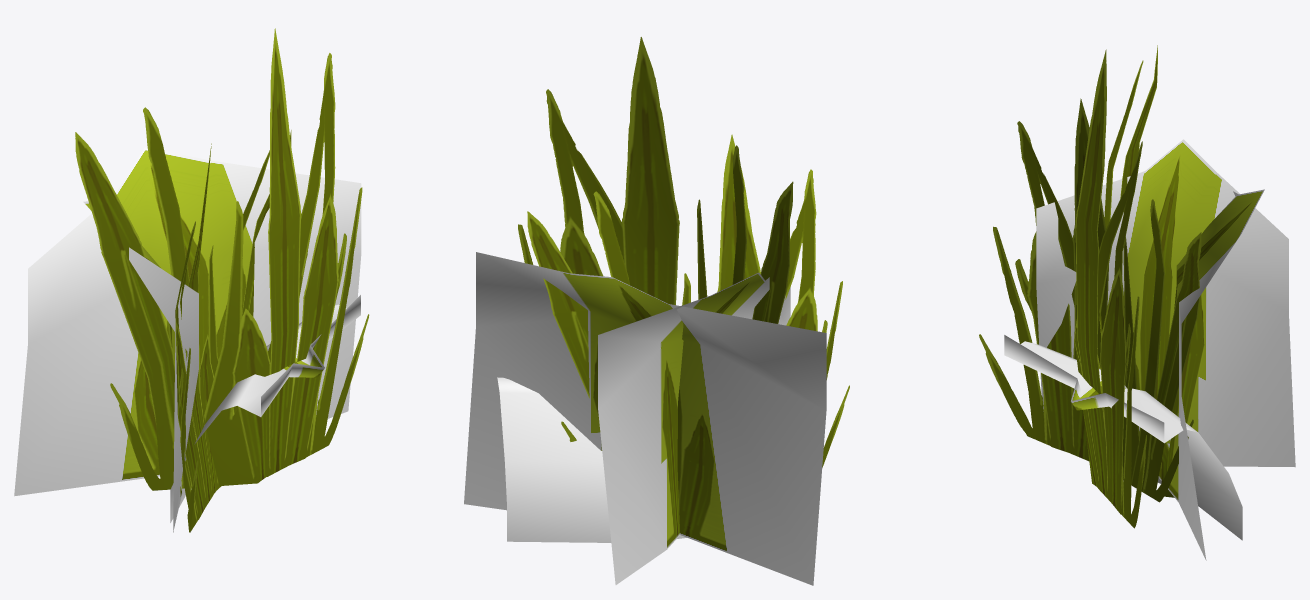
Rendered from Flax_Bush_2.fbx.
3 renders of one model, left to right at view 1: azimuth 30°, elevation 25°; view 2: azimuth 150°, elevation 25°; view 3: azimuth 270°, elevation 25°, orthographic. The views are drawn at different scales.
Visible parts, largest first — view 1: Flax_Bush_2; view 2: Flax_Bush_2; view 3: Flax_Bush_2.
Part boxes in pixels (x1,y1,x2,y2): Flax_Bush_2: (14,28,369,532); Flax_Bush_2: (464,37,849,585); Flax_Bush_2: (979,45,1295,560).
Bounding box in the file's own units: 1.71 × 2.03 × 1.43.
